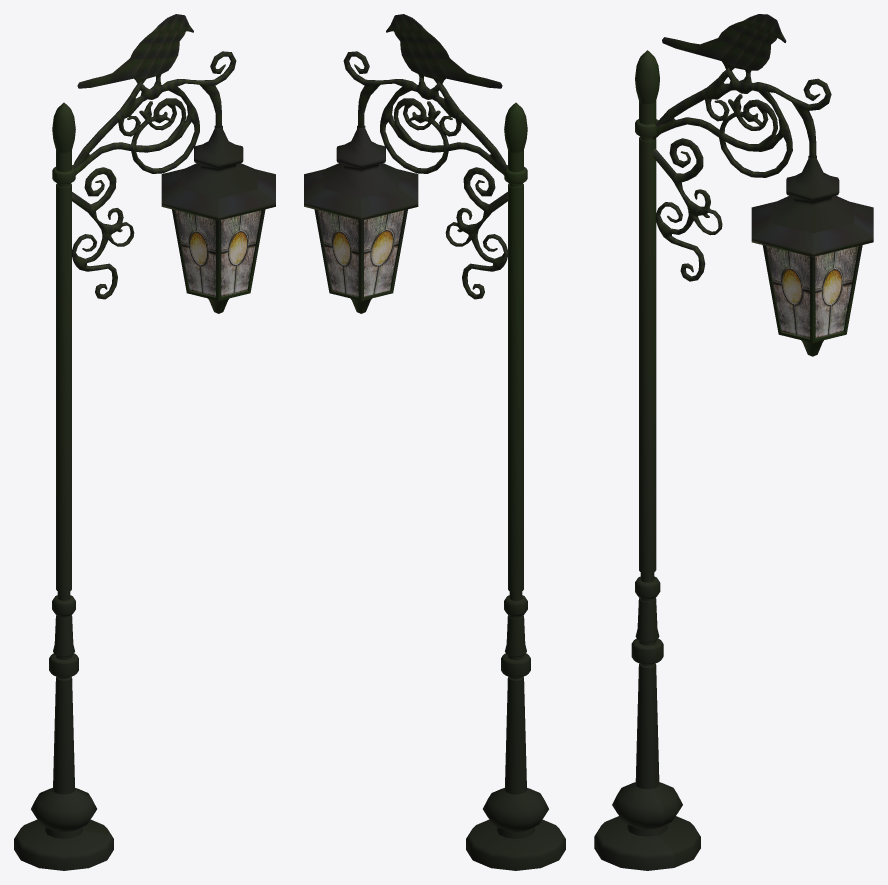
The model's file is Farola_2.obj.
3 views of the same model, side by side, from view 1: azimuth 30°, elevation 25°; view 2: azimuth 150°, elevation 25°; view 3: azimuth 330°, elevation 25° (orthographic). The views are drawn at different scales.
Visible parts, largest first — view 1: Lp_4; view 2: Lp_4; view 3: Lp_4.
Part boxes in pixels (bbox=[...]): Lp_4: bbox=[14, 14, 275, 870]; Lp_4: bbox=[304, 14, 565, 870]; Lp_4: bbox=[594, 14, 873, 870].
Size of the model in its own units: 8.08 by 24.47 by 3.14.
